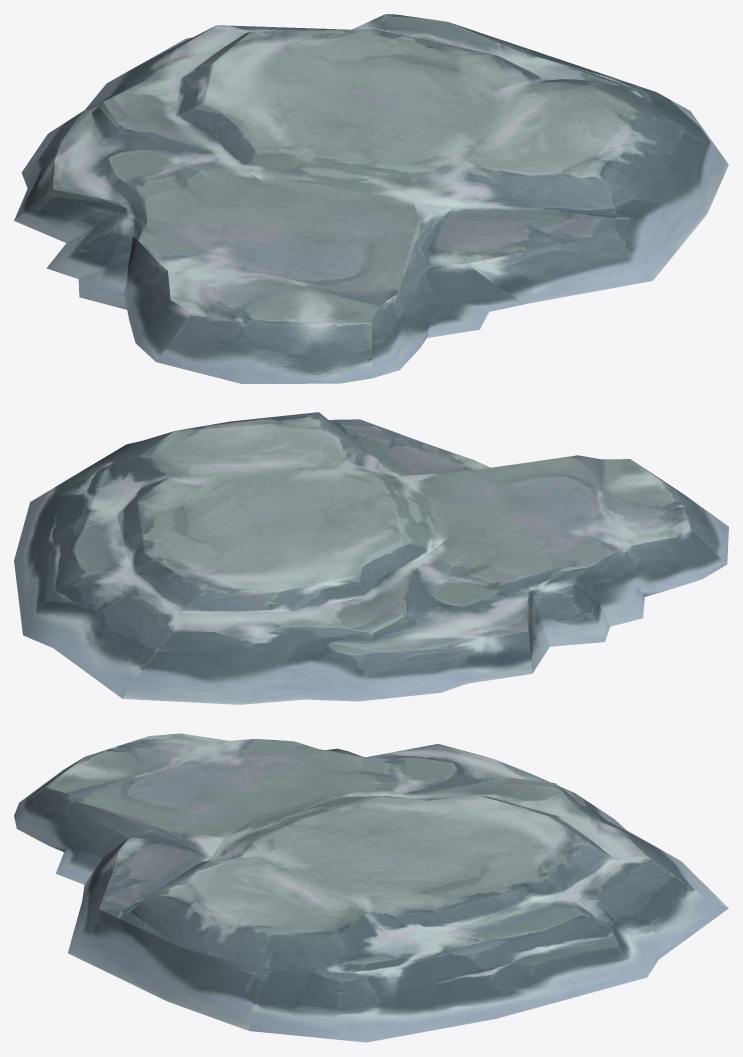
File: map_114_shitou_1.fbx
The picture shows the model from 3 angles, top to bottom: view 1: azimuth 30°, elevation 25°; view 2: azimuth 150°, elevation 25°; view 3: azimuth 270°, elevation 25°; orthographic projection. The views are drawn at different scales.
Visible parts, largest first — view 1: map_114_shitou_1; view 2: map_114_shitou_1; view 3: map_114_shitou_1.
Boxes of the visible parts, x1,y1,x2,y2 form: map_114_shitou_1: (14, 14, 728, 383); map_114_shitou_1: (14, 412, 728, 704); map_114_shitou_1: (14, 733, 728, 1042).
Bounding box in the file's own units: 14.13 × 1.37 × 14.69.
